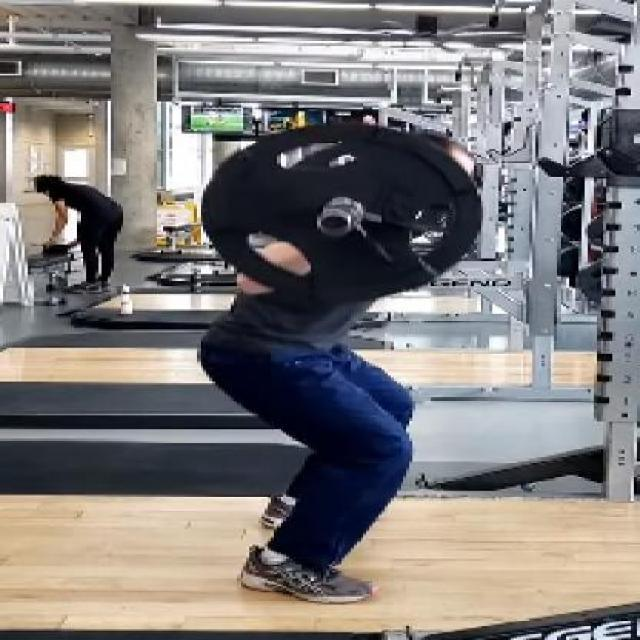Barbell: (311, 206, 364, 240)
